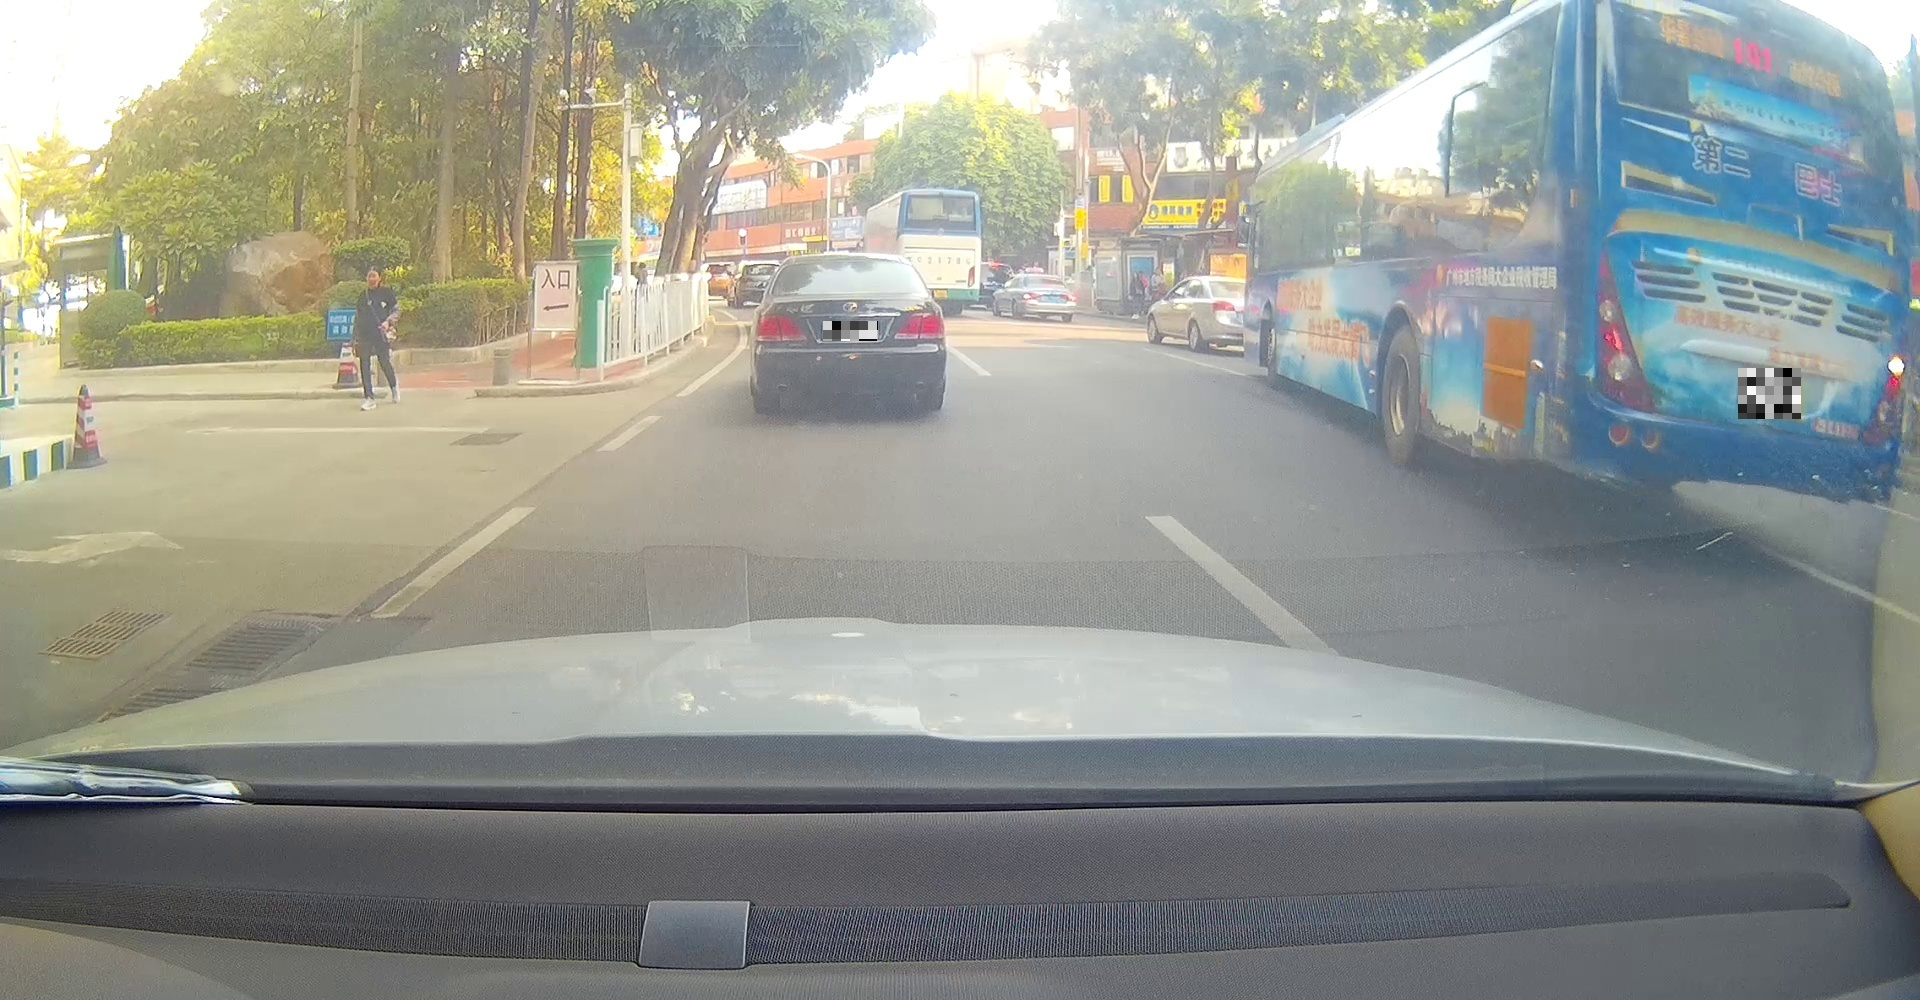L_light: (1592, 242, 1655, 414), (753, 313, 806, 341), (1022, 293, 1036, 299)
R_light: (1859, 321, 1905, 444), (894, 311, 945, 340), (1064, 294, 1076, 301)
T_light: (1733, 9, 1792, 44), (834, 260, 860, 266), (1039, 278, 1048, 280)
day-brake: (1022, 273, 1077, 322)
day-no: (750, 253, 947, 412)
day-right: (1572, 0, 1910, 503)
plate_1: (823, 321, 877, 341)
plate_2: (1738, 368, 1801, 419)
